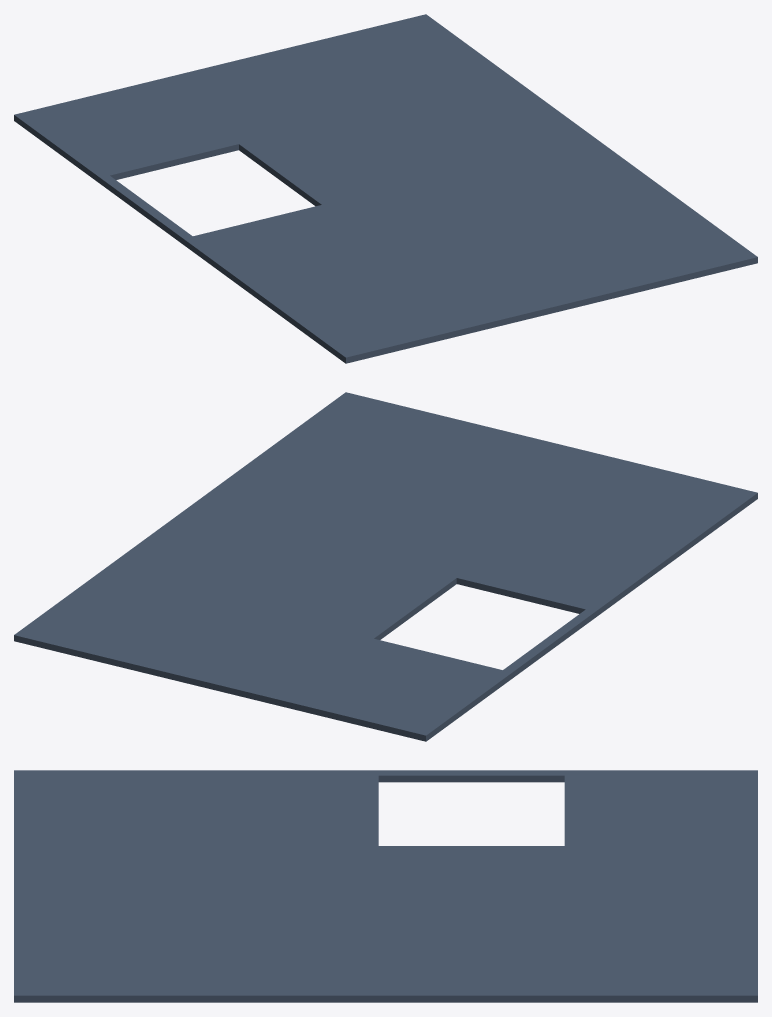
The model's file is floor_geometry.obj.
The picture shows the model from 3 angles, top to bottom: view 1: azimuth 30°, elevation 25°; view 2: azimuth 150°, elevation 25°; view 3: azimuth 270°, elevation 25°; orthographic projection. The views are drawn at different scales.
Visible parts, largest first — view 1: Floor_015_l_central_core_glavnaya_lestnica_floor, Floor_008_l_central_core_obschiy_vestibyul_vertikalno_floor, Floor_006_l_central_core_liftovoy_holl_floor, Floor_001_l_central_core_elektroschitovaya_floor, Floor_011_l_central_core_sluzhebnyy_dostup_1_5_m_floor, Floor_003_l_central_core_lift_floor, Floor_012_l_central_core_sluzhebnyy_dostup_1_5_m_floor, Floor_013_l_central_core_glavnaya_lestnica_floor; view 2: Floor_015_l_central_core_glavnaya_lestnica_floor, Floor_008_l_central_core_obschiy_vestibyul_vertikalno_floor, Floor_006_l_central_core_liftovoy_holl_floor, Floor_001_l_central_core_elektroschitovaya_floor, Floor_011_l_central_core_sluzhebnyy_dostup_1_5_m_floor, Floor_003_l_central_core_lift_floor, Floor_004_l_central_core_lift_floor, Floor_012_l_central_core_sluzhebnyy_dostup_1_5_m_floor, Floor_013_l_central_core_glavnaya_lestnica_floor; view 3: Floor_015_l_central_core_glavnaya_lestnica_floor, Floor_008_l_central_core_obschiy_vestibyul_vertikalno_floor, Floor_006_l_central_core_liftovoy_holl_floor, Floor_001_l_central_core_elektroschitovaya_floor, Floor_011_l_central_core_sluzhebnyy_dostup_1_5_m_floor, Floor_003_l_central_core_lift_floor, Floor_012_l_central_core_sluzhebnyy_dostup_1_5_m_floor, Floor_013_l_central_core_glavnaya_lestnica_floor, Floor_005_l_central_core_lift_floor, Floor_010_l_central_core_sluzhebnyy_dostup_1_5_m_floor, Floor_002_l_central_core_elektroschitovaya_floor, Floor_009_l_central_core_sluzhebnyy_dostup_1_5_m_floor (+2 smaller).
Part boxes in pixels (x1,y1,x2,y2): Floor_015_l_central_core_glavnaya_lestnica_floor: (225, 14, 672, 243); Floor_008_l_central_core_obschiy_vestibyul_vertikalno_floor: (261, 195, 757, 363); Floor_006_l_central_core_liftovoy_holl_floor: (184, 190, 461, 301); Floor_001_l_central_core_elektroschitovaya_floor: (14, 80, 236, 179); Floor_011_l_central_core_sluzhebnyy_dostup_1_5_m_floor: (166, 65, 385, 202); Floor_003_l_central_core_lift_floor: (95, 139, 326, 244); Floor_012_l_central_core_sluzhebnyy_dostup_1_5_m_floor: (216, 64, 389, 189); Floor_013_l_central_core_glavnaya_lestnica_floor: (220, 63, 393, 188); Floor_015_l_central_core_glavnaya_lestnica_floor: (14, 454, 461, 690); Floor_008_l_central_core_obschiy_vestibyul_vertikalno_floor: (261, 392, 757, 560); Floor_006_l_central_core_liftovoy_holl_floor: (395, 506, 672, 616); Floor_001_l_central_core_elektroschitovaya_floor: (283, 641, 506, 741); Floor_011_l_central_core_sluzhebnyy_dostup_1_5_m_floor: (224, 562, 444, 704); Floor_003_l_central_core_lift_floor: (364, 576, 596, 682); Floor_004_l_central_core_lift_floor: (456, 577, 586, 613); Floor_012_l_central_core_sluzhebnyy_dostup_1_5_m_floor: (220, 561, 394, 692); Floor_013_l_central_core_glavnaya_lestnica_floor: (215, 559, 389, 691); Floor_015_l_central_core_glavnaya_lestnica_floor: (204, 885, 757, 1002); Floor_008_l_central_core_obschiy_vestibyul_vertikalno_floor: (14, 770, 204, 1002); Floor_006_l_central_core_liftovoy_holl_floor: (204, 770, 376, 880); Floor_001_l_central_core_elektroschitovaya_floor: (576, 770, 757, 848); Floor_011_l_central_core_sluzhebnyy_dostup_1_5_m_floor: (376, 853, 757, 880); Floor_003_l_central_core_lift_floor: (376, 770, 576, 848); Floor_012_l_central_core_sluzhebnyy_dostup_1_5_m_floor: (376, 880, 757, 882); Floor_013_l_central_core_glavnaya_lestnica_floor: (376, 883, 757, 885); Floor_005_l_central_core_lift_floor: (376, 848, 576, 850); Floor_010_l_central_core_sluzhebnyy_dostup_1_5_m_floor: (376, 851, 576, 853); Floor_002_l_central_core_elektroschitovaya_floor: (576, 848, 757, 850); Floor_009_l_central_core_sluzhebnyy_dostup_1_5_m_floor: (576, 851, 757, 853).
Bounding box in the file's own units: 14.05 × 0.2 × 19.6.
